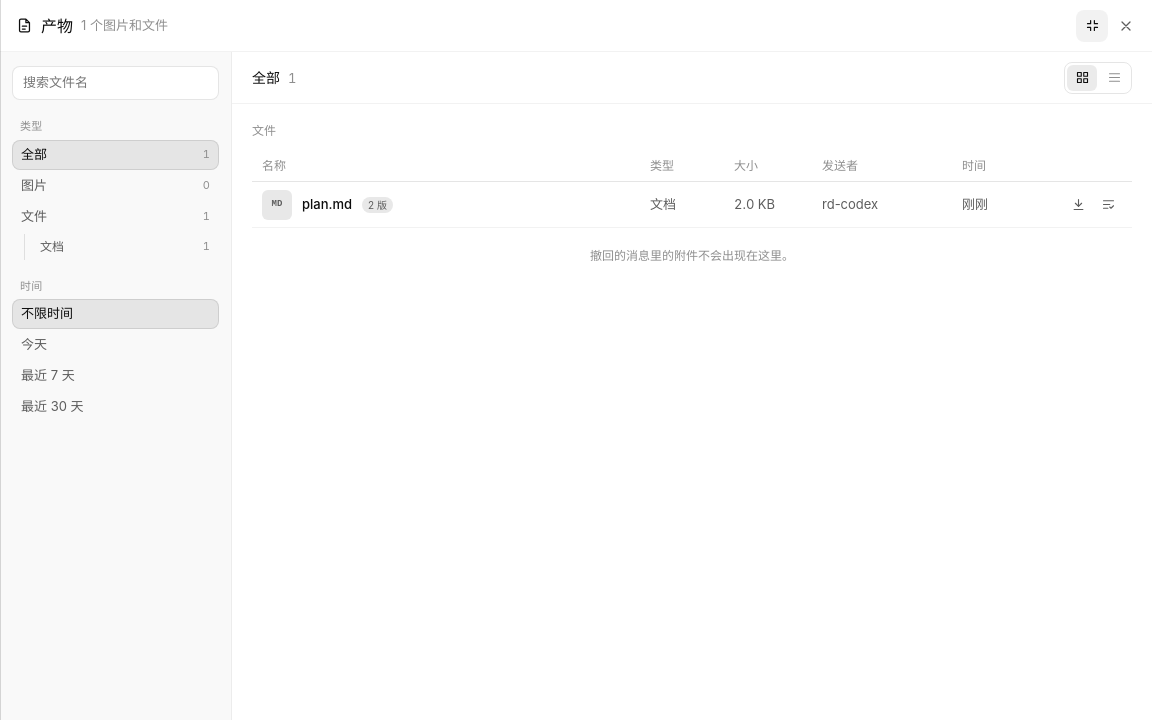
Test: ArtifactsPanel › shows details with versions, locates any version and closes with Escape
Later steps or results of the test are not shown.
Click the button with aria-label "plan.md，".
click(327, 204)  # box [256,184,630,226]
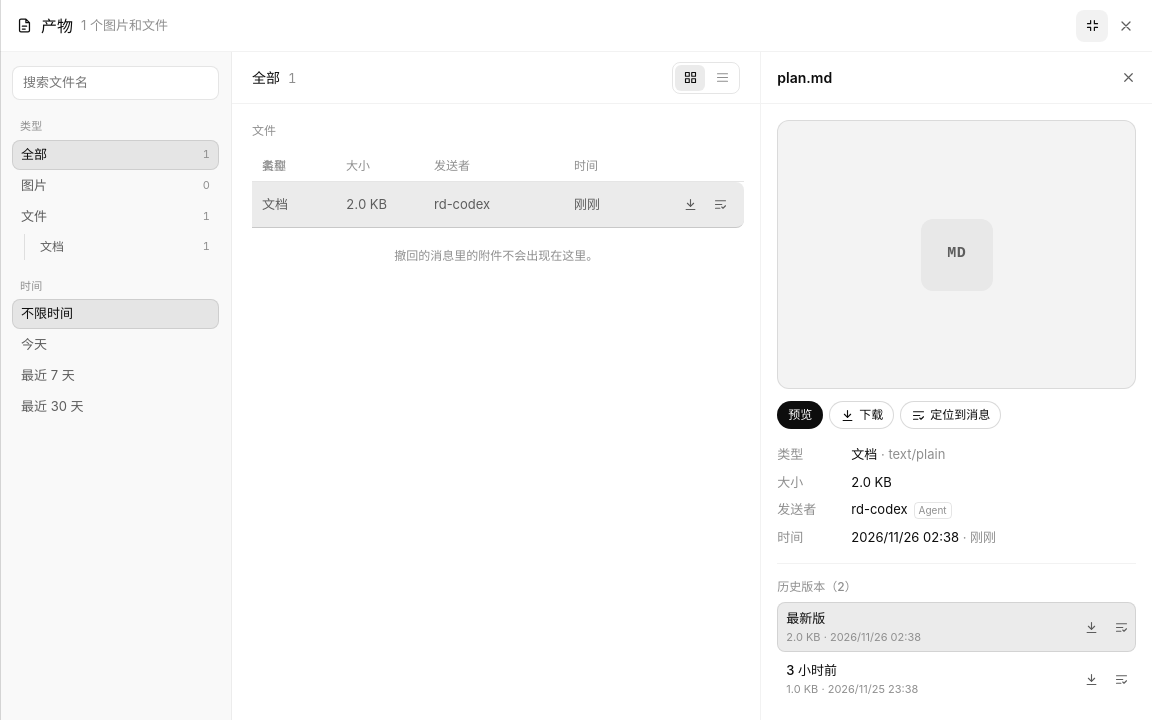
Expected: the text "2.0 KB" is shown, [851,474,892,490]
Expected: the button "预览" is shown, [777,401,823,429]
Expected: the list named "plan.md 的历史版本" shows "3 小时前"
// 选中旧版本：信息换成那一版
Click the button "3 小时前 1.0 KB · 2026/11/25 23:38".
click(812, 670)  # box [778,655,1077,703]
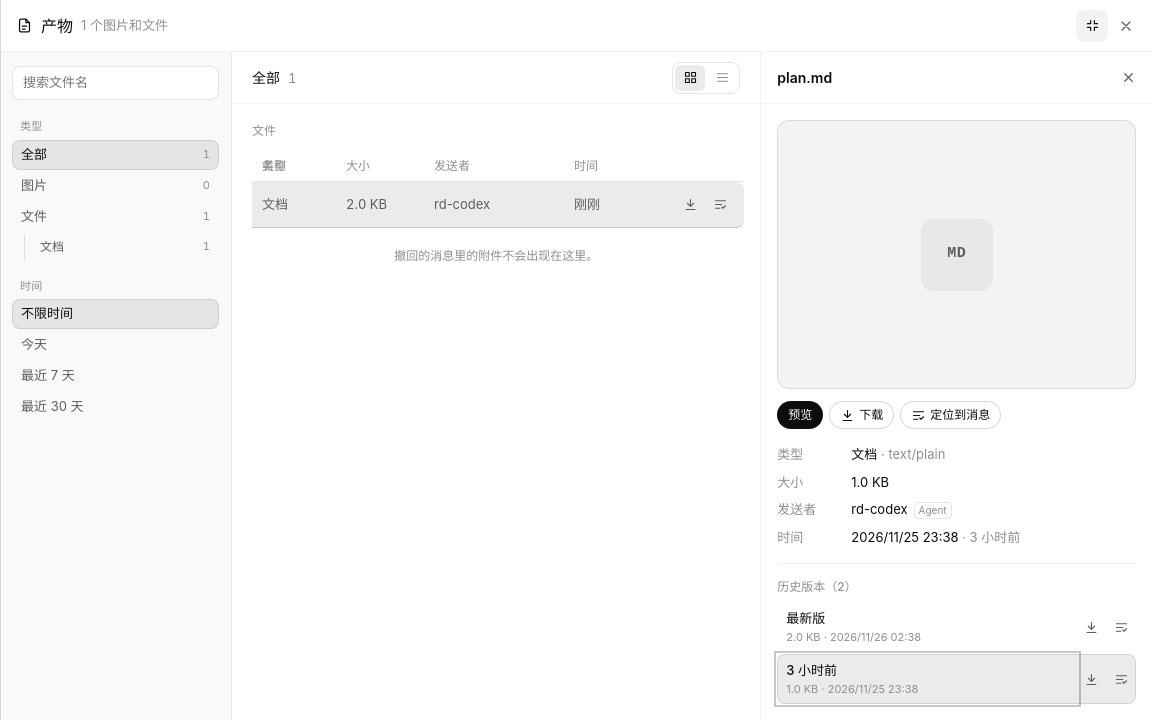
Expected: the text "1.0 KB" is shown, [851,474,889,490]
Click the 3rd button named "定位到 plan.md 所在的消息".
click(1121, 679)  # box [1107,665,1135,693]
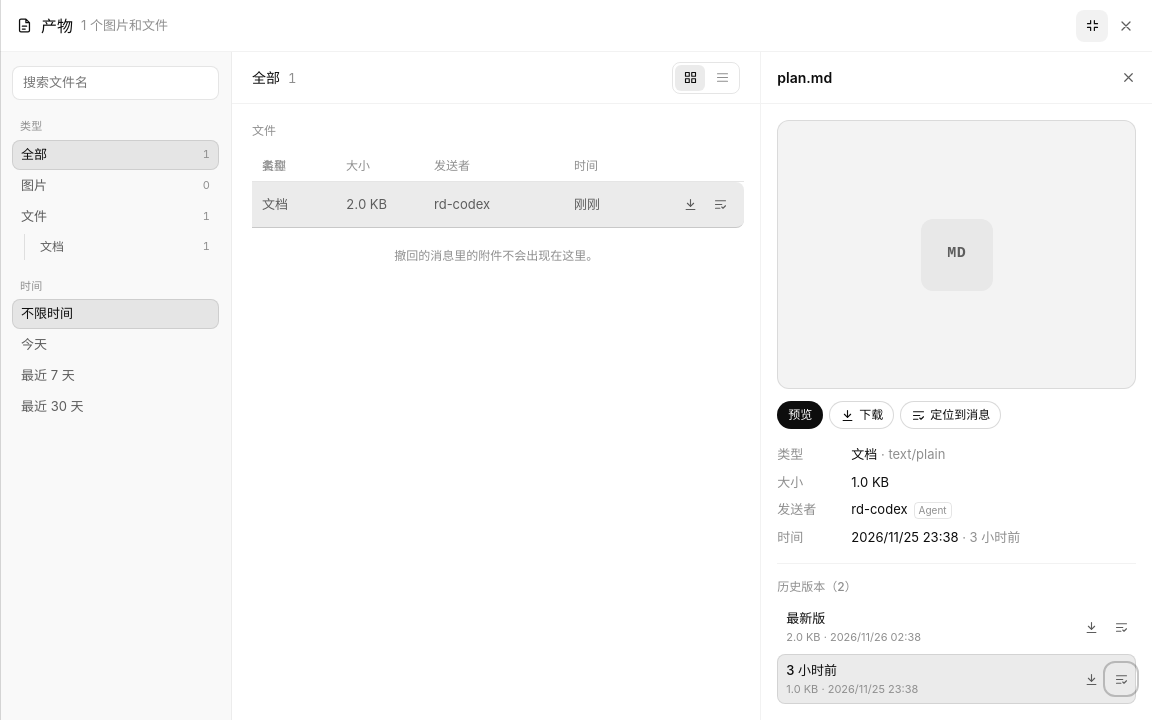
// Esc 先关详情栏，再按才关面板
Press Escape
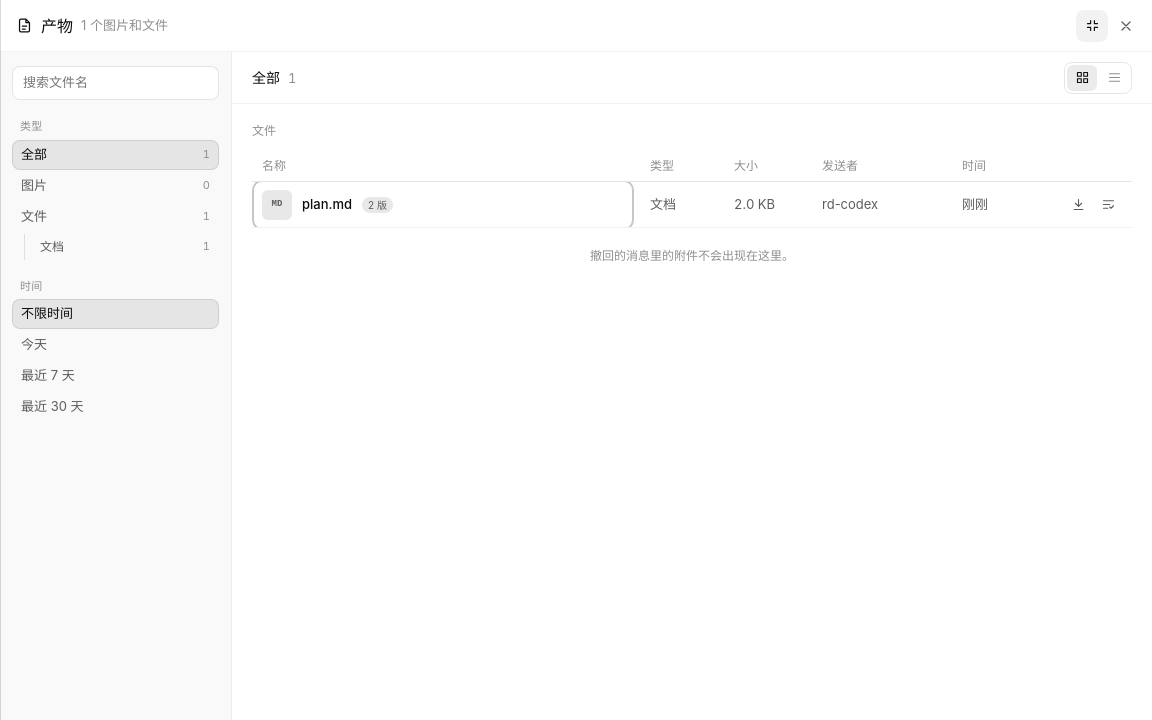
Expected: the button with aria-label "plan.md，" shows "plan.md", [256,184,630,226]
